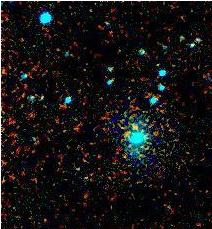star: (120, 112, 150, 142)
